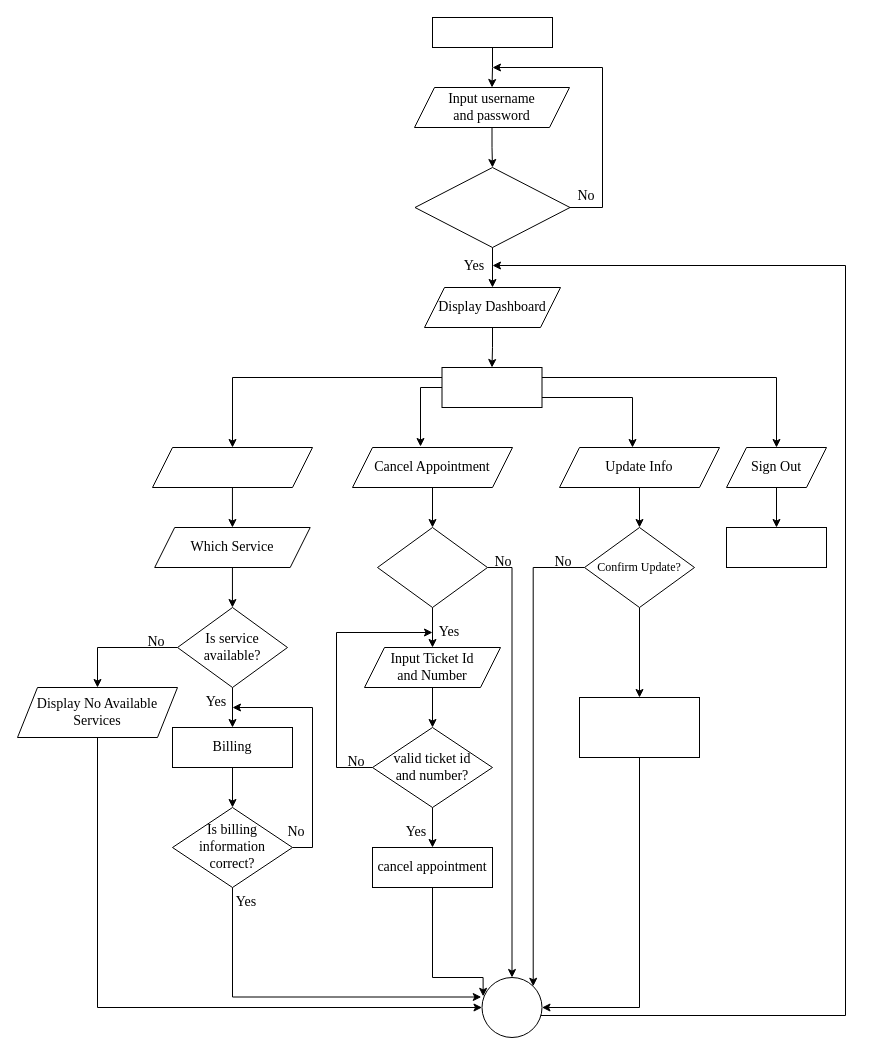
This 871x1055 diagram has some shape labels left out. The shapes that lost their labels are listed below. From the top down, each one's centre as x and y in pixels, then its label:
At point 492,32: "USER".
At point 492,207: "is username and password valid?".
At point 491,387: "Choose Option".
At point 232,467: "Book Appointment".
At point 432,567: "Confirm cancellation?".
At point 776,547: "User Select".
At point 639,727: "Commit Updates".
